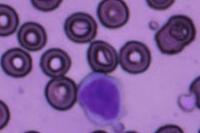L: (76, 72, 128, 127)
